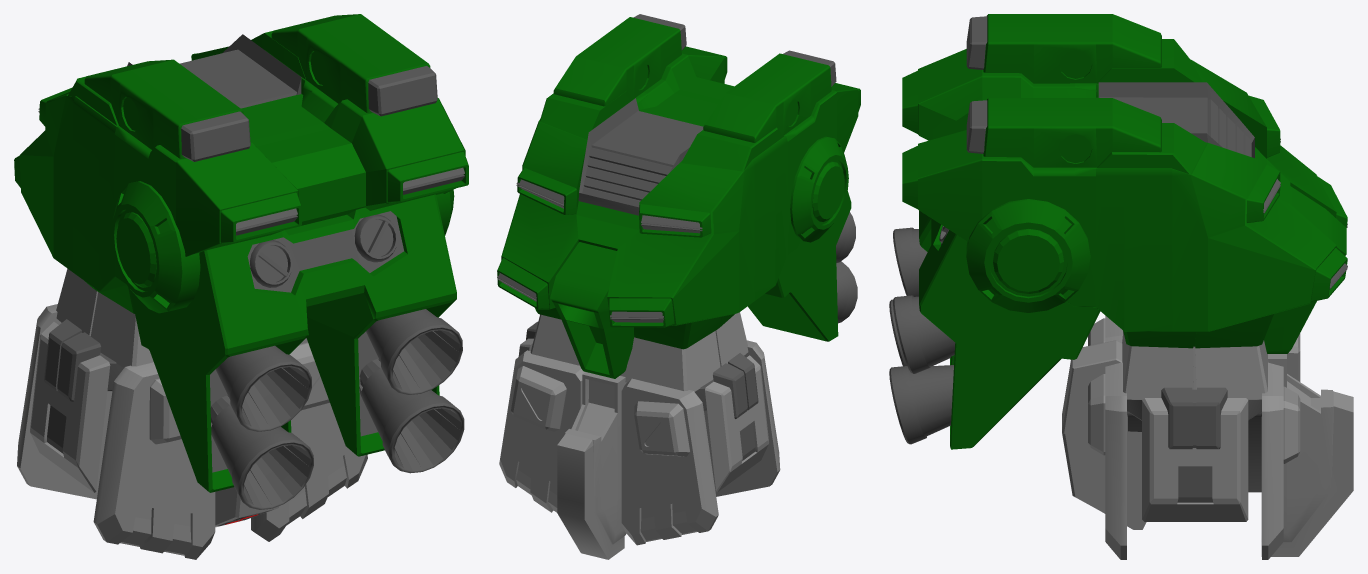
Rendered from Cardigan Torso V2.fbx.
3 views of the same model, side by side, from view 1: azimuth 30°, elevation 25°; view 2: azimuth 150°, elevation 25°; view 3: azimuth 270°, elevation 25° (orthographic). The views are drawn at different scales.
Parts seen in each view (by area): view 1: polySurface273, polySurface279, polySurface293, polySurface260, polySurface268, polySurface282, polySurface290, polySurface289, polySurface283, polySurface288, polySurface261, polySurface285 (+7 smaller); view 2: polySurface273, polySurface258, polySurface260, polySurface277, polySurface285, polySurface269, polySurface279, polySurface265, polySurface259, polySurface282, polySurface268, polySurface262 (+9 smaller); view 3: polySurface273, polySurface260, polySurface279, polySurface268, polySurface282, polySurface277, polySurface265, polySurface276, polySurface285, polySurface293, polySurface290, polySurface258 (+12 smaller).
Part boxes in pixels (box(x1,y1,x2,y2)): polySurface273: box(19, 31, 465, 291); polySurface279: box(130, 194, 456, 492); polySurface293: box(93, 338, 367, 559); polySurface260: box(84, 14, 430, 158); polySurface268: box(111, 181, 454, 313); polySurface282: box(30, 322, 110, 492); polySurface290: box(359, 358, 464, 473); polySurface289: box(210, 395, 313, 509); polySurface283: box(366, 309, 462, 394); polySurface288: box(215, 345, 311, 431); polySurface261: box(181, 66, 437, 161); polySurface285: box(127, 34, 301, 108); polySurface273: box(501, 47, 858, 325); polySurface258: box(499, 350, 718, 545); polySurface260: box(553, 17, 831, 142); polySurface277: box(557, 372, 626, 559); polySurface285: box(578, 98, 703, 215); polySurface269: box(550, 242, 634, 378); polySurface279: box(748, 191, 851, 341); polySurface265: box(530, 312, 748, 391); polySurface259: box(511, 366, 690, 456); polySurface282: box(518, 338, 768, 492); polySurface268: box(790, 136, 848, 242); polySurface262: box(497, 258, 674, 327); polySurface273: box(918, 39, 1336, 331); polySurface260: box(983, 14, 1161, 167); polySurface279: box(919, 210, 1100, 449); polySurface268: box(966, 199, 1090, 312); polySurface282: box(1142, 398, 1248, 521); polySurface277: box(1261, 354, 1353, 556); polySurface265: box(1122, 331, 1268, 399); polySurface276: box(1062, 340, 1146, 529); polySurface285: box(1098, 82, 1254, 158); polySurface293: box(1105, 315, 1126, 559); polySurface290: box(889, 365, 953, 444); polySurface258: box(1262, 362, 1283, 559).
Bounding box in the file's own units: 10.79 × 17.97 × 15.78.
